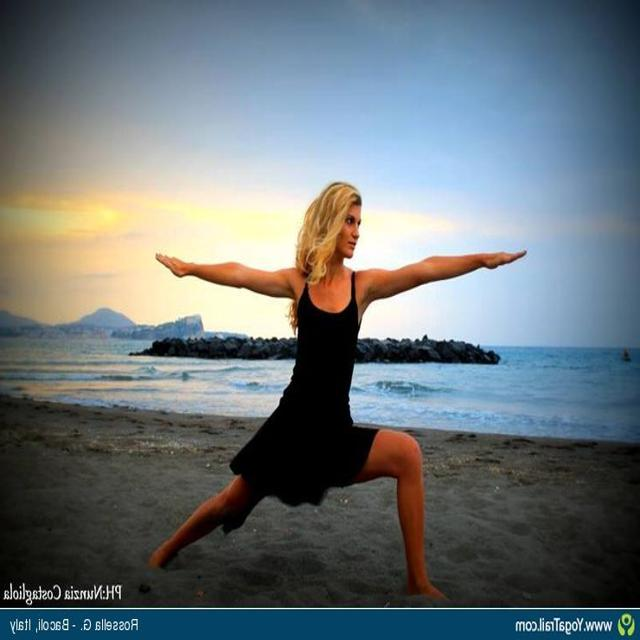Warrior_II: (151, 178, 523, 605)
